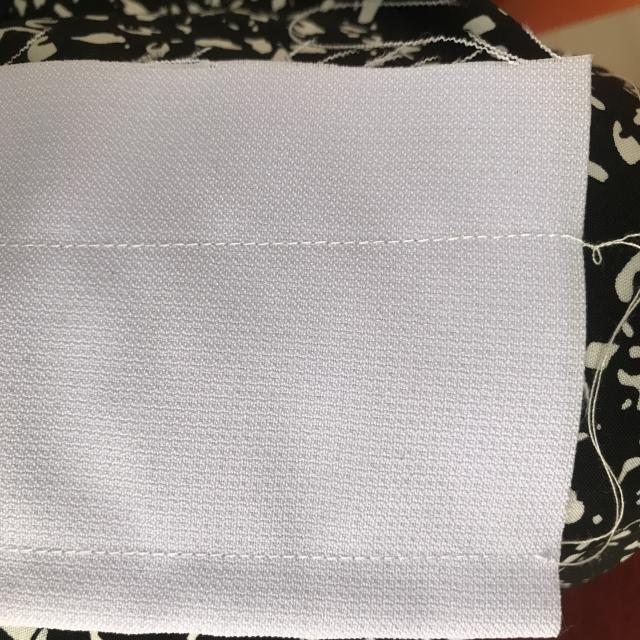good: (176, 227, 487, 249), (30, 228, 148, 267), (66, 540, 203, 569), (233, 548, 358, 570)
